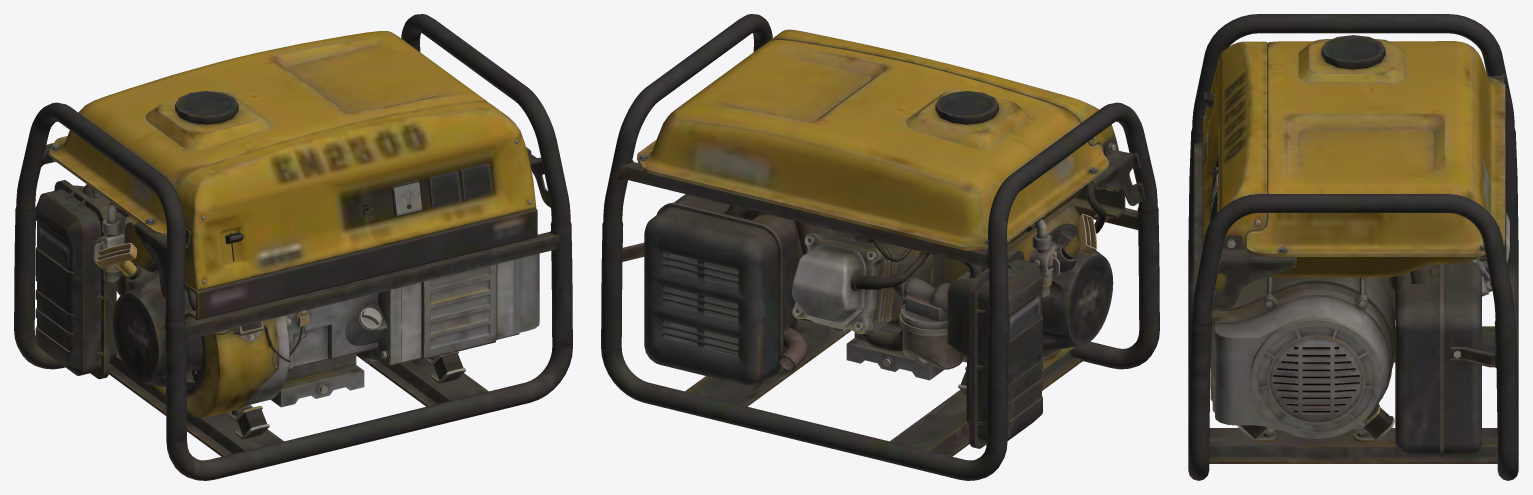
Rendered from generator.glb.
3 views of the same model, side by side, from view 1: azimuth 30°, elevation 25°; view 2: azimuth 150°, elevation 25°; view 3: azimuth 270°, elevation 25° (orthographic).
Parts seen in each view (by area): view 1: portable_generator; view 2: portable_generator; view 3: portable_generator.
Boxes of the visible parts, left/top/right/bottom form: portable_generator: left=14, top=14, right=572, bottom=480; portable_generator: left=601, top=14, right=1159, bottom=480; portable_generator: left=1188, top=14, right=1518, bottom=480.
Bounding box in the file's own units: 0.8183 × 0.577 × 0.564.
2 materials, 2 textured.
